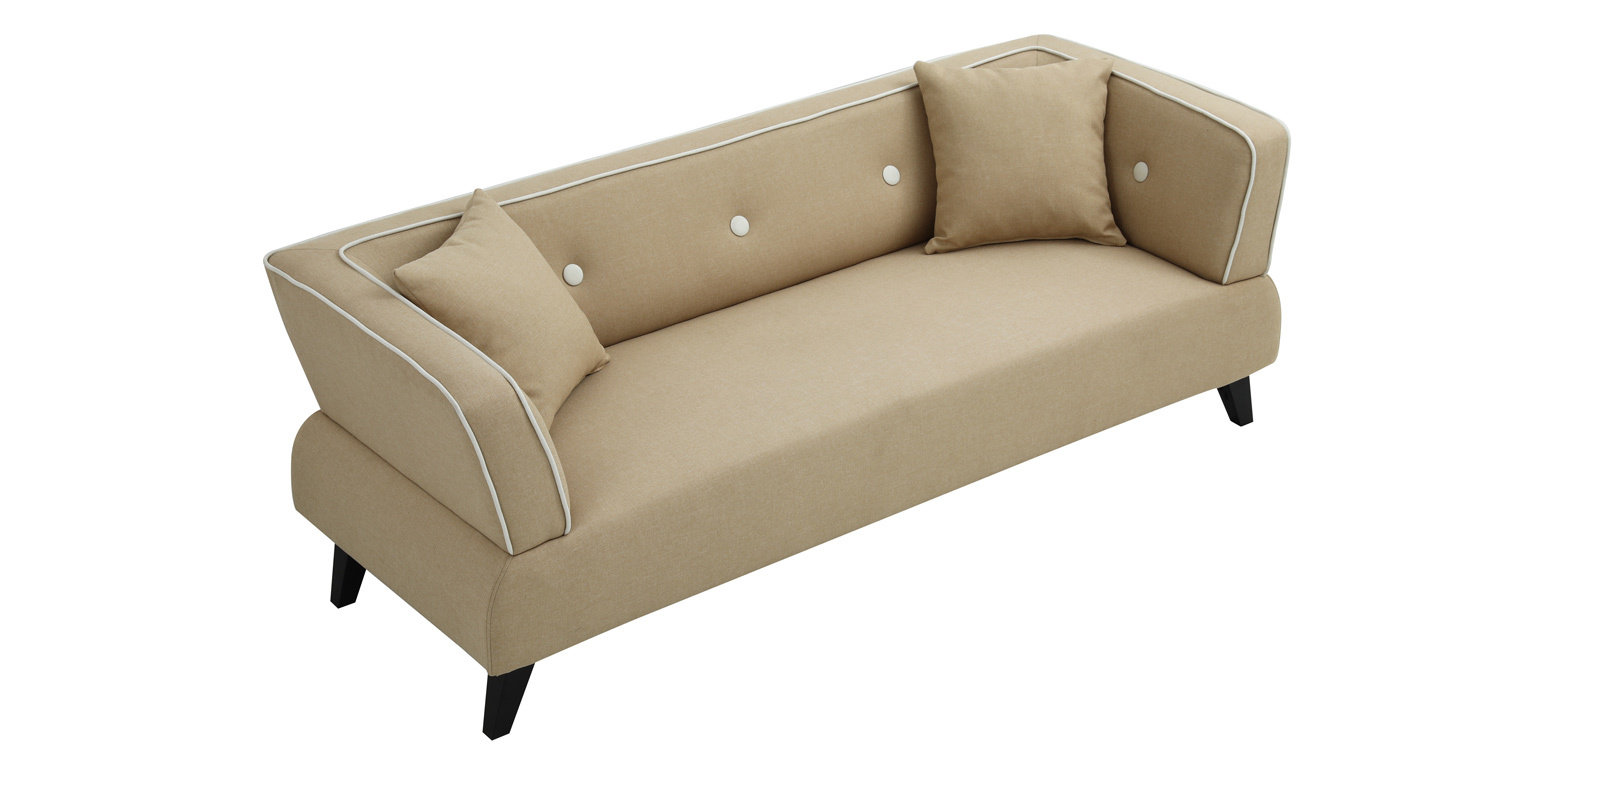Dime Three Seater Sofa in Beige Colour by Zofa: (210, 21, 1360, 756)
